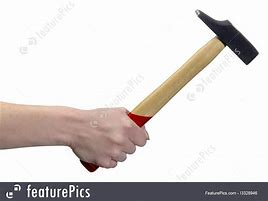hammer: (77, 7, 260, 174)
